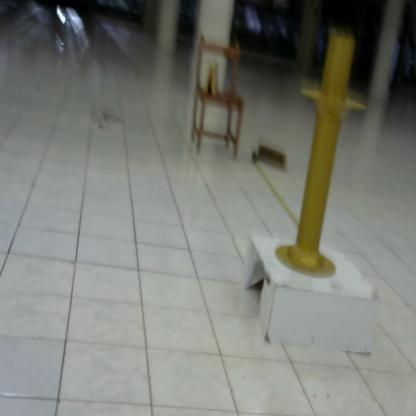pole: (273, 28, 379, 283)
